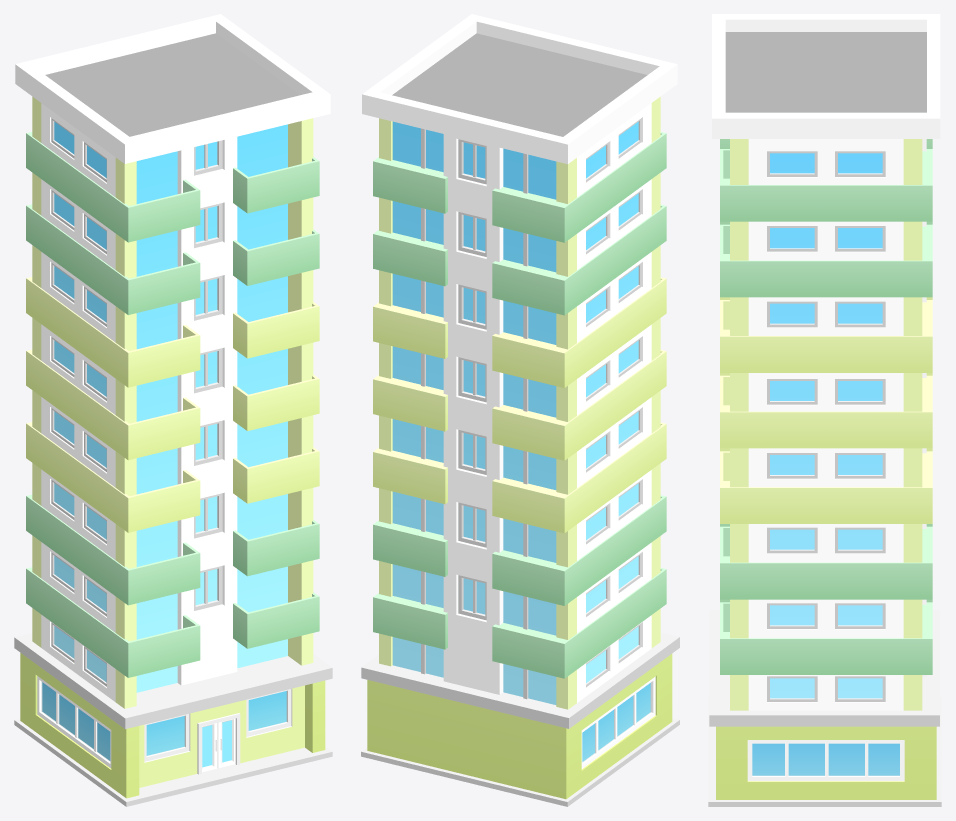
Rendered from city2-building-living-41.glb.
3 renders of one model, left to right at view 1: azimuth 30°, elevation 25°; view 2: azimuth 150°, elevation 25°; view 3: azimuth 270°, elevation 25°, orthographic. The views are drawn at different scales.
Visible parts, largest first — view 1: Building_Living_41; view 2: Building_Living_41; view 3: Building_Living_41.
Part boxes in pixels (x1,y1,x2,y2): Building_Living_41: [14, 14, 332, 806]; Building_Living_41: [361, 14, 679, 806]; Building_Living_41: [708, 14, 941, 806].
Size of the model in its own units: 9.92 by 30.2 by 9.28.
Materials: 2 (2 with a texture image).
